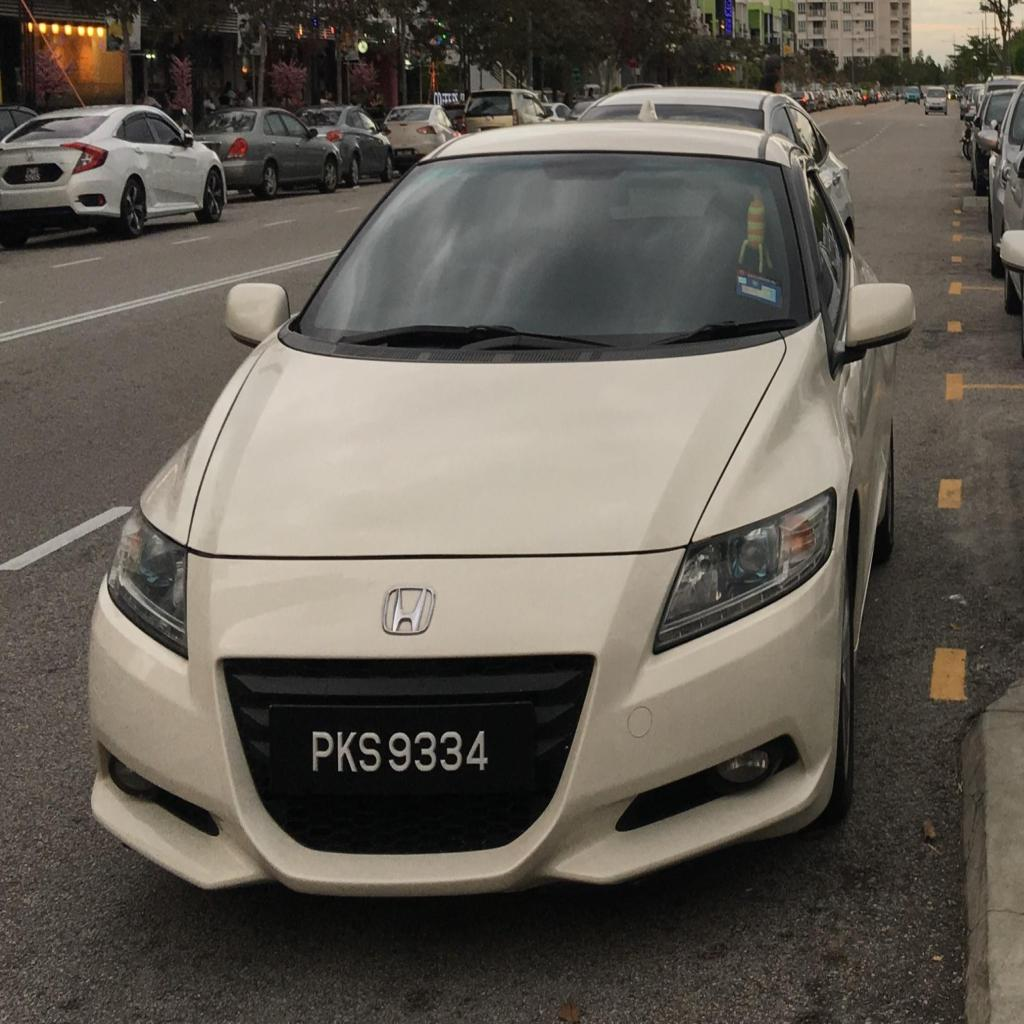car: (89, 121, 913, 894)
car plate: (269, 702, 533, 794)
